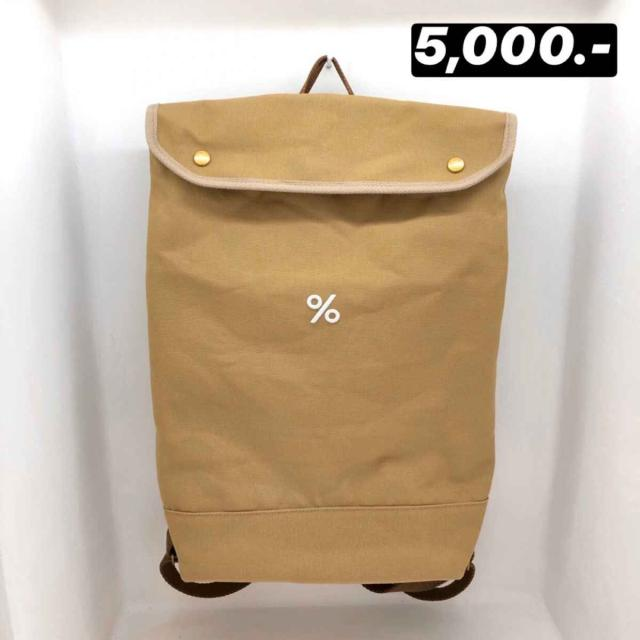Handbag: (139, 50, 520, 615)
